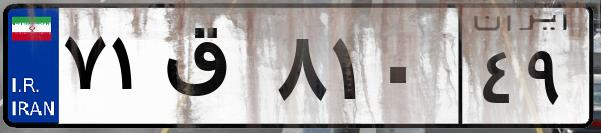0: (385, 28, 445, 110)
1: (330, 28, 385, 110), (110, 28, 158, 98)
4: (475, 38, 525, 113)
7: (57, 26, 110, 100)
8: (270, 28, 330, 110)
9: (525, 38, 570, 115)
ق: (158, 20, 270, 120)
